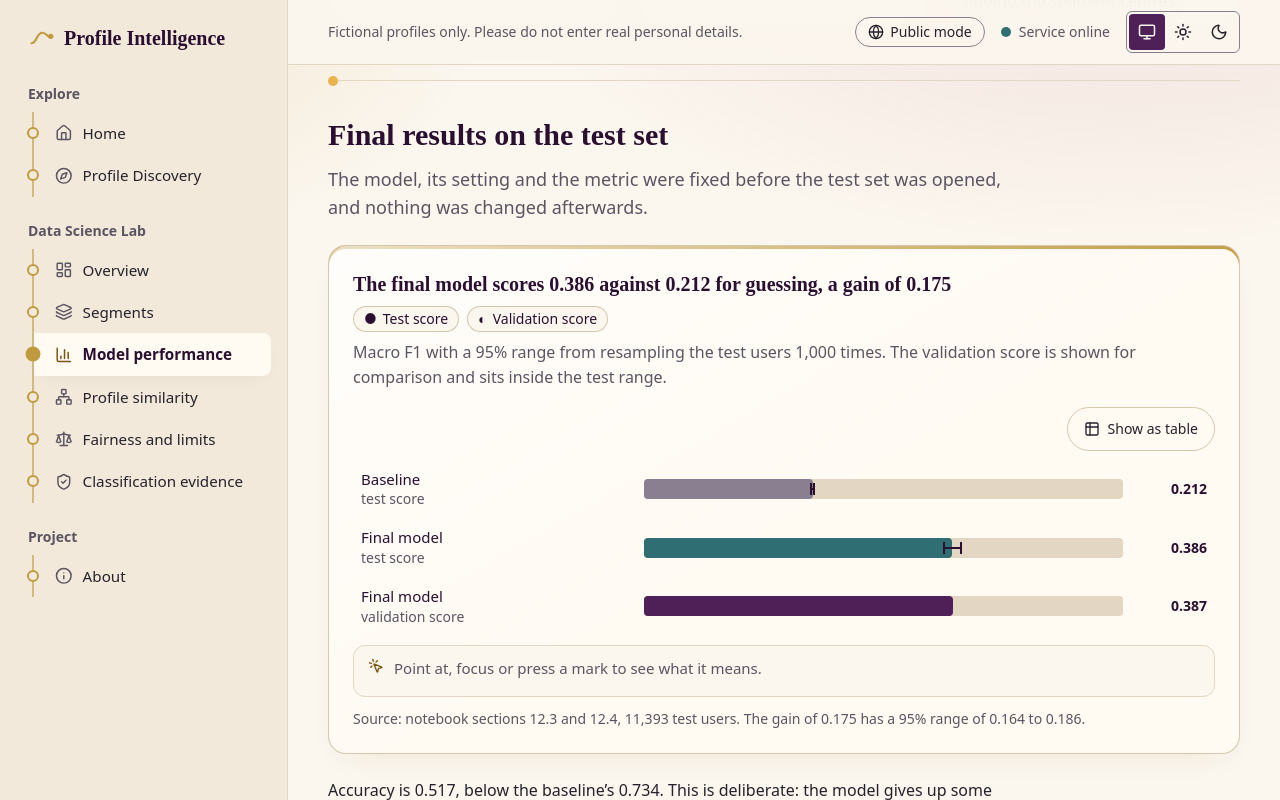
Scenario: chart data › every chart has a table with the same numbers
The image size is (1280, 800).
(page scrolled)
Click the button "Show as table" at [1141, 429], box [1067,407,1215,451]
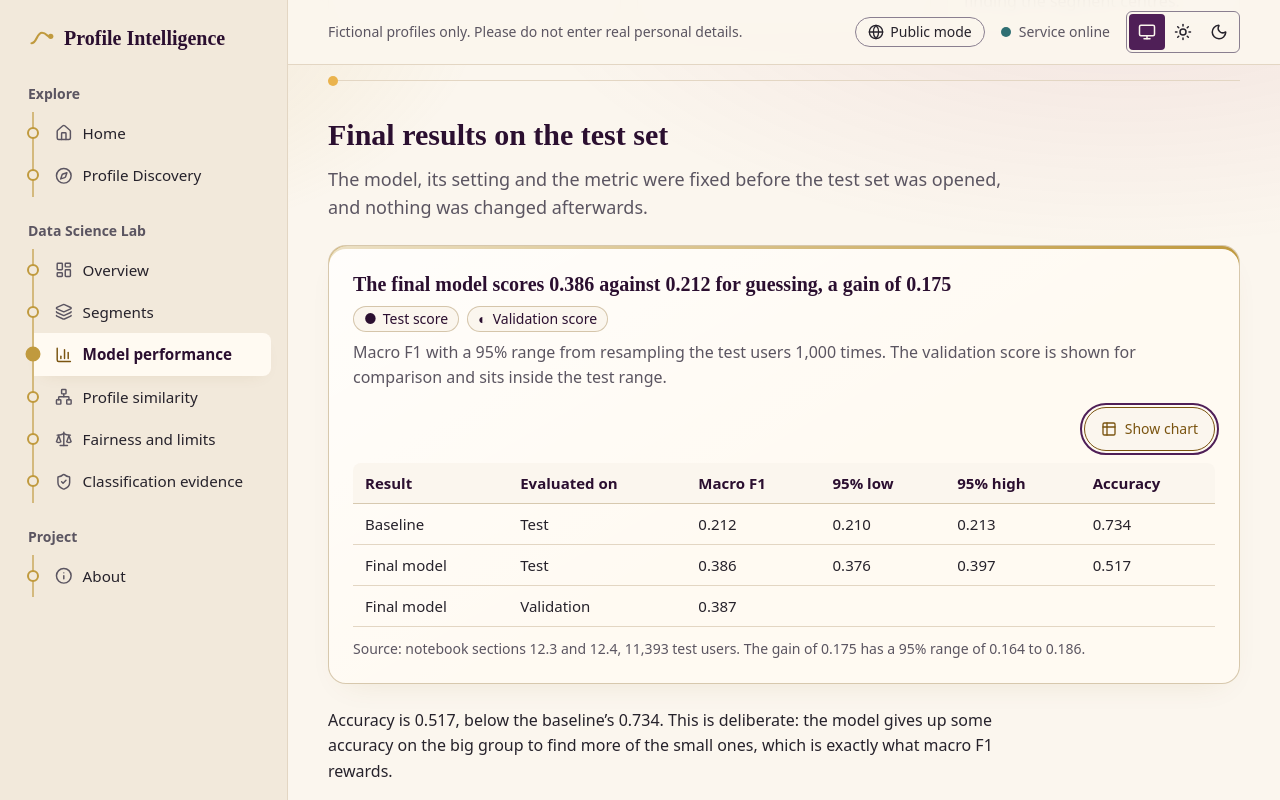
expect the row "Final model Test 0.386 0.376 0.397 0.517" is shown: met, box [353,544,1215,585]
